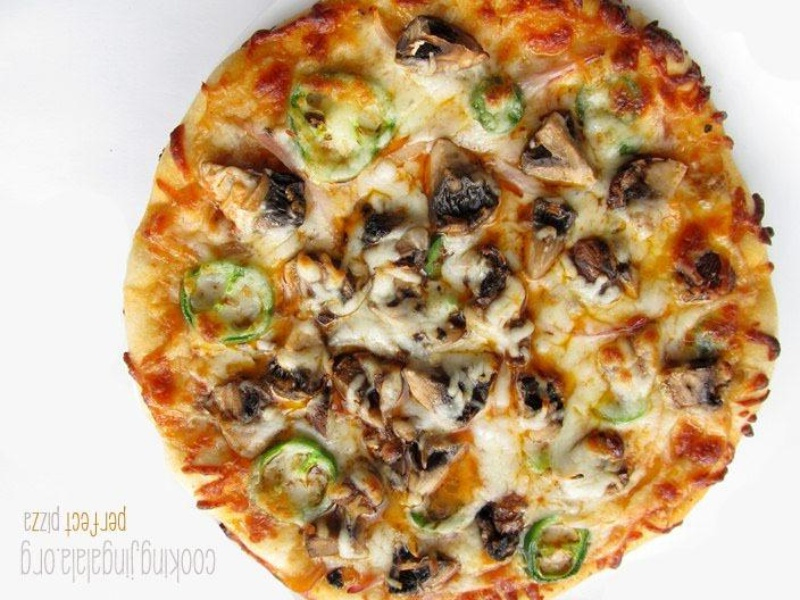champignon: (516, 111, 603, 192), (392, 19, 494, 78)
